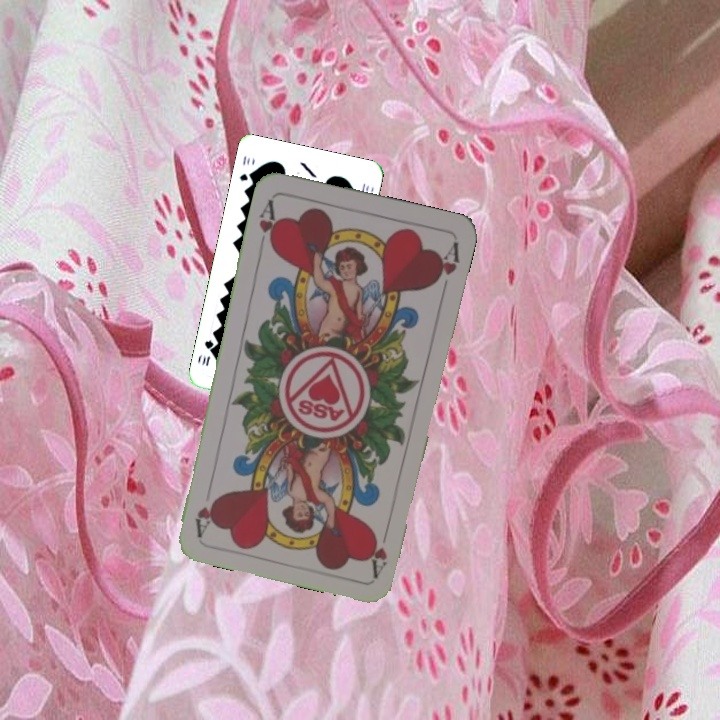G10: (235, 151, 256, 184)
HA: (363, 520, 392, 579), (254, 195, 282, 253)
